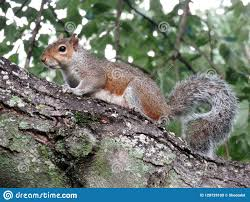Ardilla: (42, 34, 177, 121)
